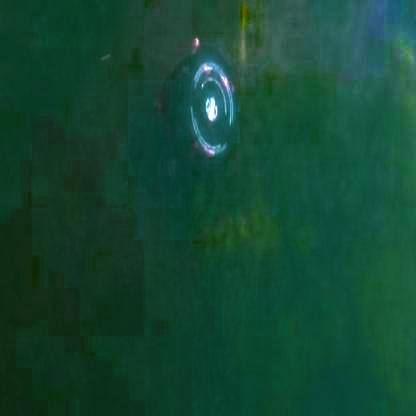can: (116, 51, 257, 242)
